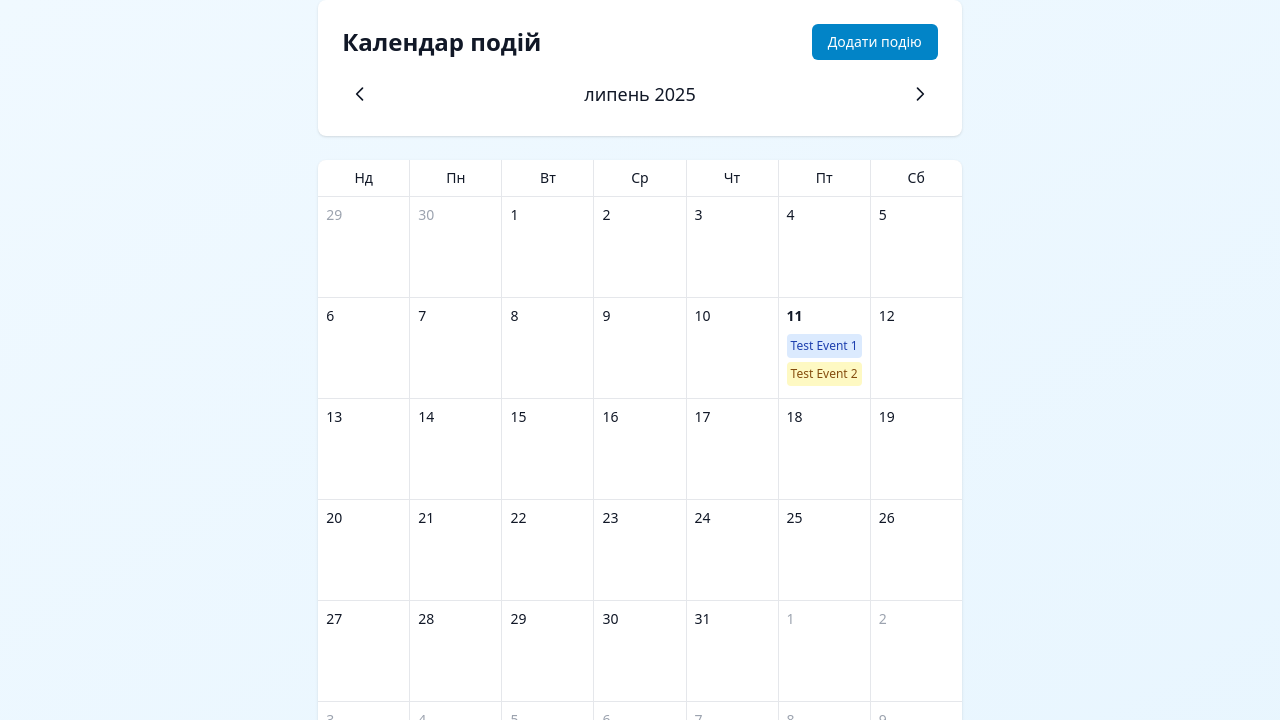
Scenario: CalendarView › shows edit event modal when event is clicked
The width and height of the screenshot is (1280, 720).
Click the text with class "truncate" showing "Test Event 1".
click(824, 346)  # box [787, 334, 862, 358]
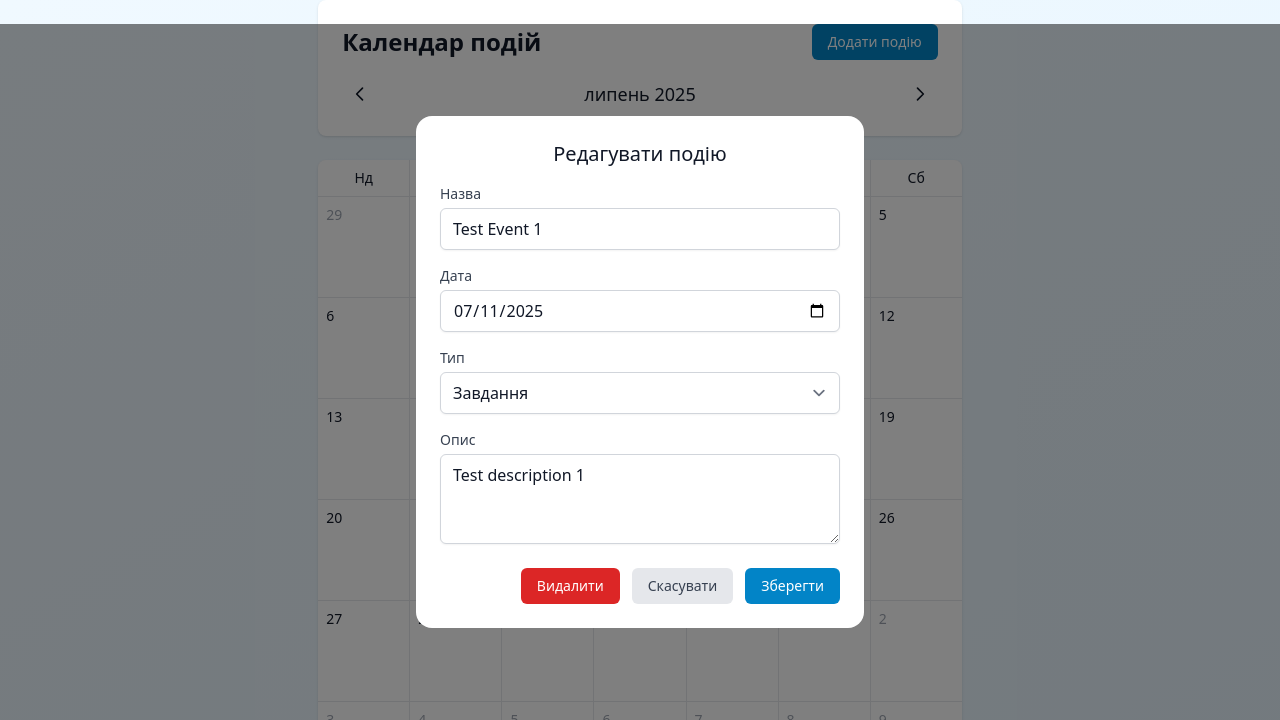
Now the element with class "inset-0" is shown
Now the heading "Редагувати подію" is shown, box [553, 140, 727, 167]
